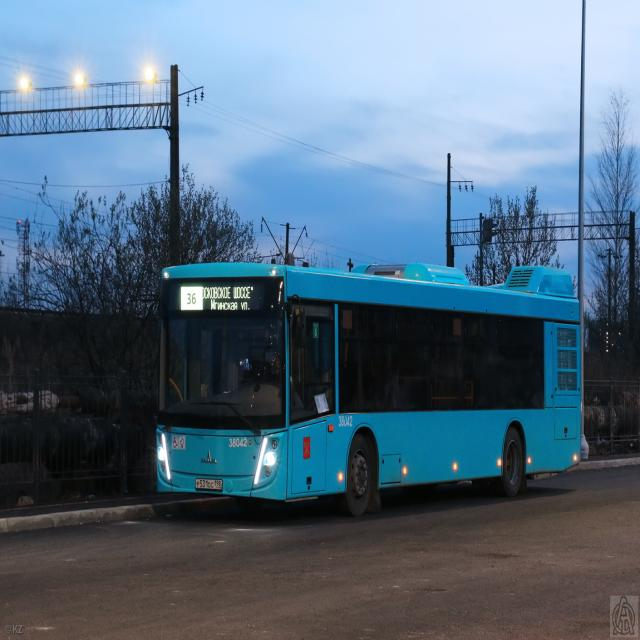number-of-bus: (184, 289, 199, 309)
